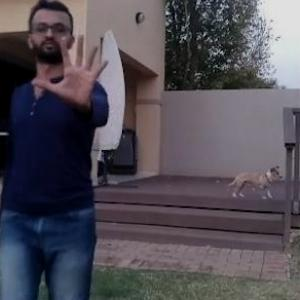follow_hand: (31, 29, 114, 110)
